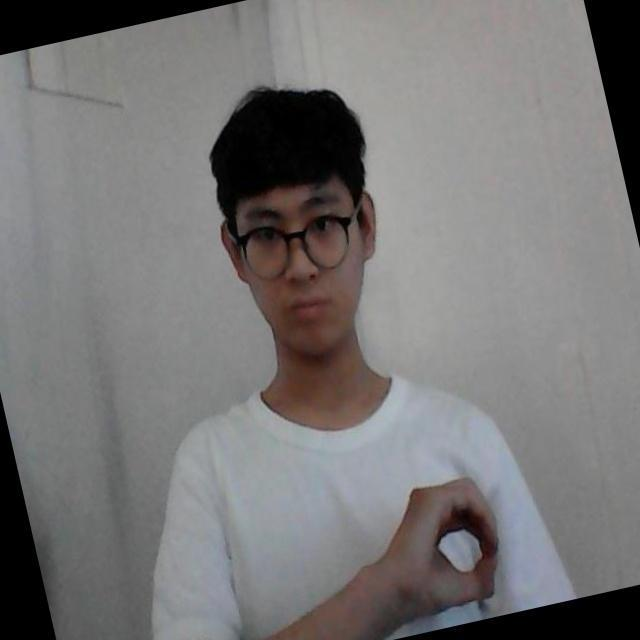O: (394, 472, 510, 612)
